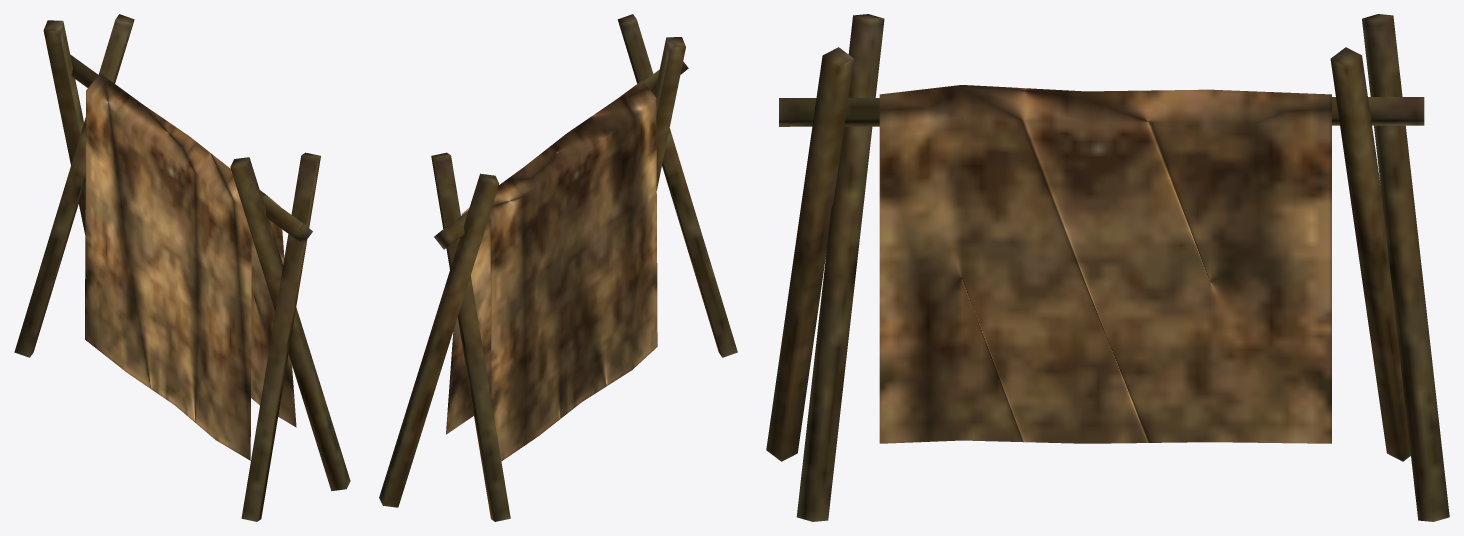
Rendered from b_general_obj_02.glb.
3 renders of one model, left to right at view 1: azimuth 30°, elevation 25°; view 2: azimuth 150°, elevation 25°; view 3: azimuth 270°, elevation 25°, orthographic. The views are drawn at different scales.
Visible parts, largest first — view 1: Mesh01; view 2: Mesh01; view 3: Mesh01.
Boxes of the visible parts, x1,y1,x2,y2 form: Mesh01: (14, 14, 350, 521); Mesh01: (379, 14, 737, 521); Mesh01: (766, 14, 1449, 521).
Size of the model in its own units: 1 by 2.66 by 3.61.
Materials: 1 (1 with a texture image).
